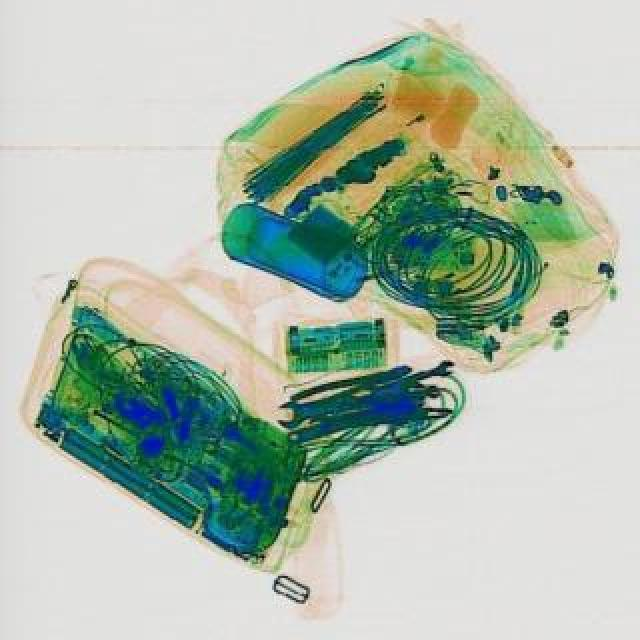scissors: (272, 380, 420, 430), (388, 356, 456, 390)
wrench: (286, 358, 412, 410)
